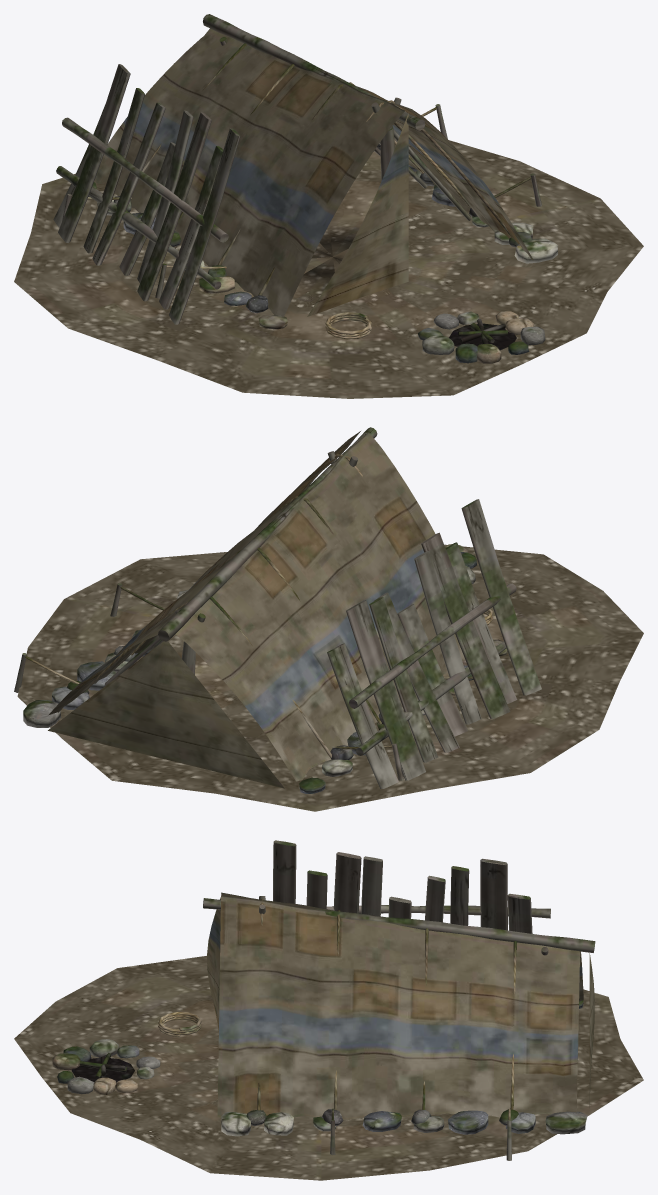
The model's file is kit_lean_to_hero.glb.
3 renders of one model, top to bottom at view 1: azimuth 30°, elevation 25°; view 2: azimuth 150°, elevation 25°; view 3: azimuth 270°, elevation 25°, orthographic. The views are drawn at different scales.
Parts seen in each view (by area): view 1: body, sail, door, plank_02, plank_09, plank_07, plank_04, plank_08, plank_03, plank_06, plank_05; view 2: body, sail, plank_09, plank_02, plank_07, plank_06, plank_01, plank_03, plank_04, plank_05, plank_08; view 3: sail, body, plank_02, plank_07, plank_09, plank_06, door, plank_03, plank_01, plank_04, plank_08.
Boxes of the visible parts, bbox=[...] form: body: bbox=[14, 14, 643, 398]; sail: bbox=[94, 28, 533, 316]; door: bbox=[307, 113, 408, 316]; plank_02: bbox=[58, 64, 130, 242]; plank_09: bbox=[169, 128, 240, 324]; plank_07: bbox=[137, 112, 211, 301]; plank_04: bbox=[92, 102, 165, 265]; plank_08: bbox=[159, 146, 223, 309]; plank_03: bbox=[83, 88, 144, 253]; plank_06: bbox=[137, 110, 193, 282]; plank_05: bbox=[119, 142, 175, 275]; body: bbox=[14, 427, 643, 811]; sail: bbox=[48, 431, 465, 788]; plank_09: bbox=[461, 499, 541, 695]; plank_02: bbox=[346, 600, 425, 780]; plank_07: bbox=[421, 532, 510, 718]; plank_06: bbox=[414, 551, 481, 724]; plank_01: bbox=[327, 643, 398, 788]; plank_03: bbox=[369, 597, 438, 762]; plank_04: bbox=[374, 592, 459, 752]; plank_05: bbox=[397, 604, 467, 736]; plank_08: bbox=[445, 542, 517, 703]; sail: bbox=[217, 892, 594, 1120]; body: bbox=[14, 896, 643, 1180]; plank_02: bbox=[480, 858, 507, 930]; plank_07: bbox=[333, 852, 361, 913]; plank_09: bbox=[273, 840, 296, 903]; plank_06: bbox=[361, 856, 382, 916]; door: bbox=[207, 897, 220, 1031]; plank_03: bbox=[450, 866, 469, 925]; plank_01: bbox=[507, 893, 532, 933]; plank_04: bbox=[425, 875, 445, 922]; plank_08: bbox=[306, 870, 327, 909].
Size of what is drawn, in the model's own units: 4.87 by 1.69 by 5.35.
2 materials, 2 textured.
